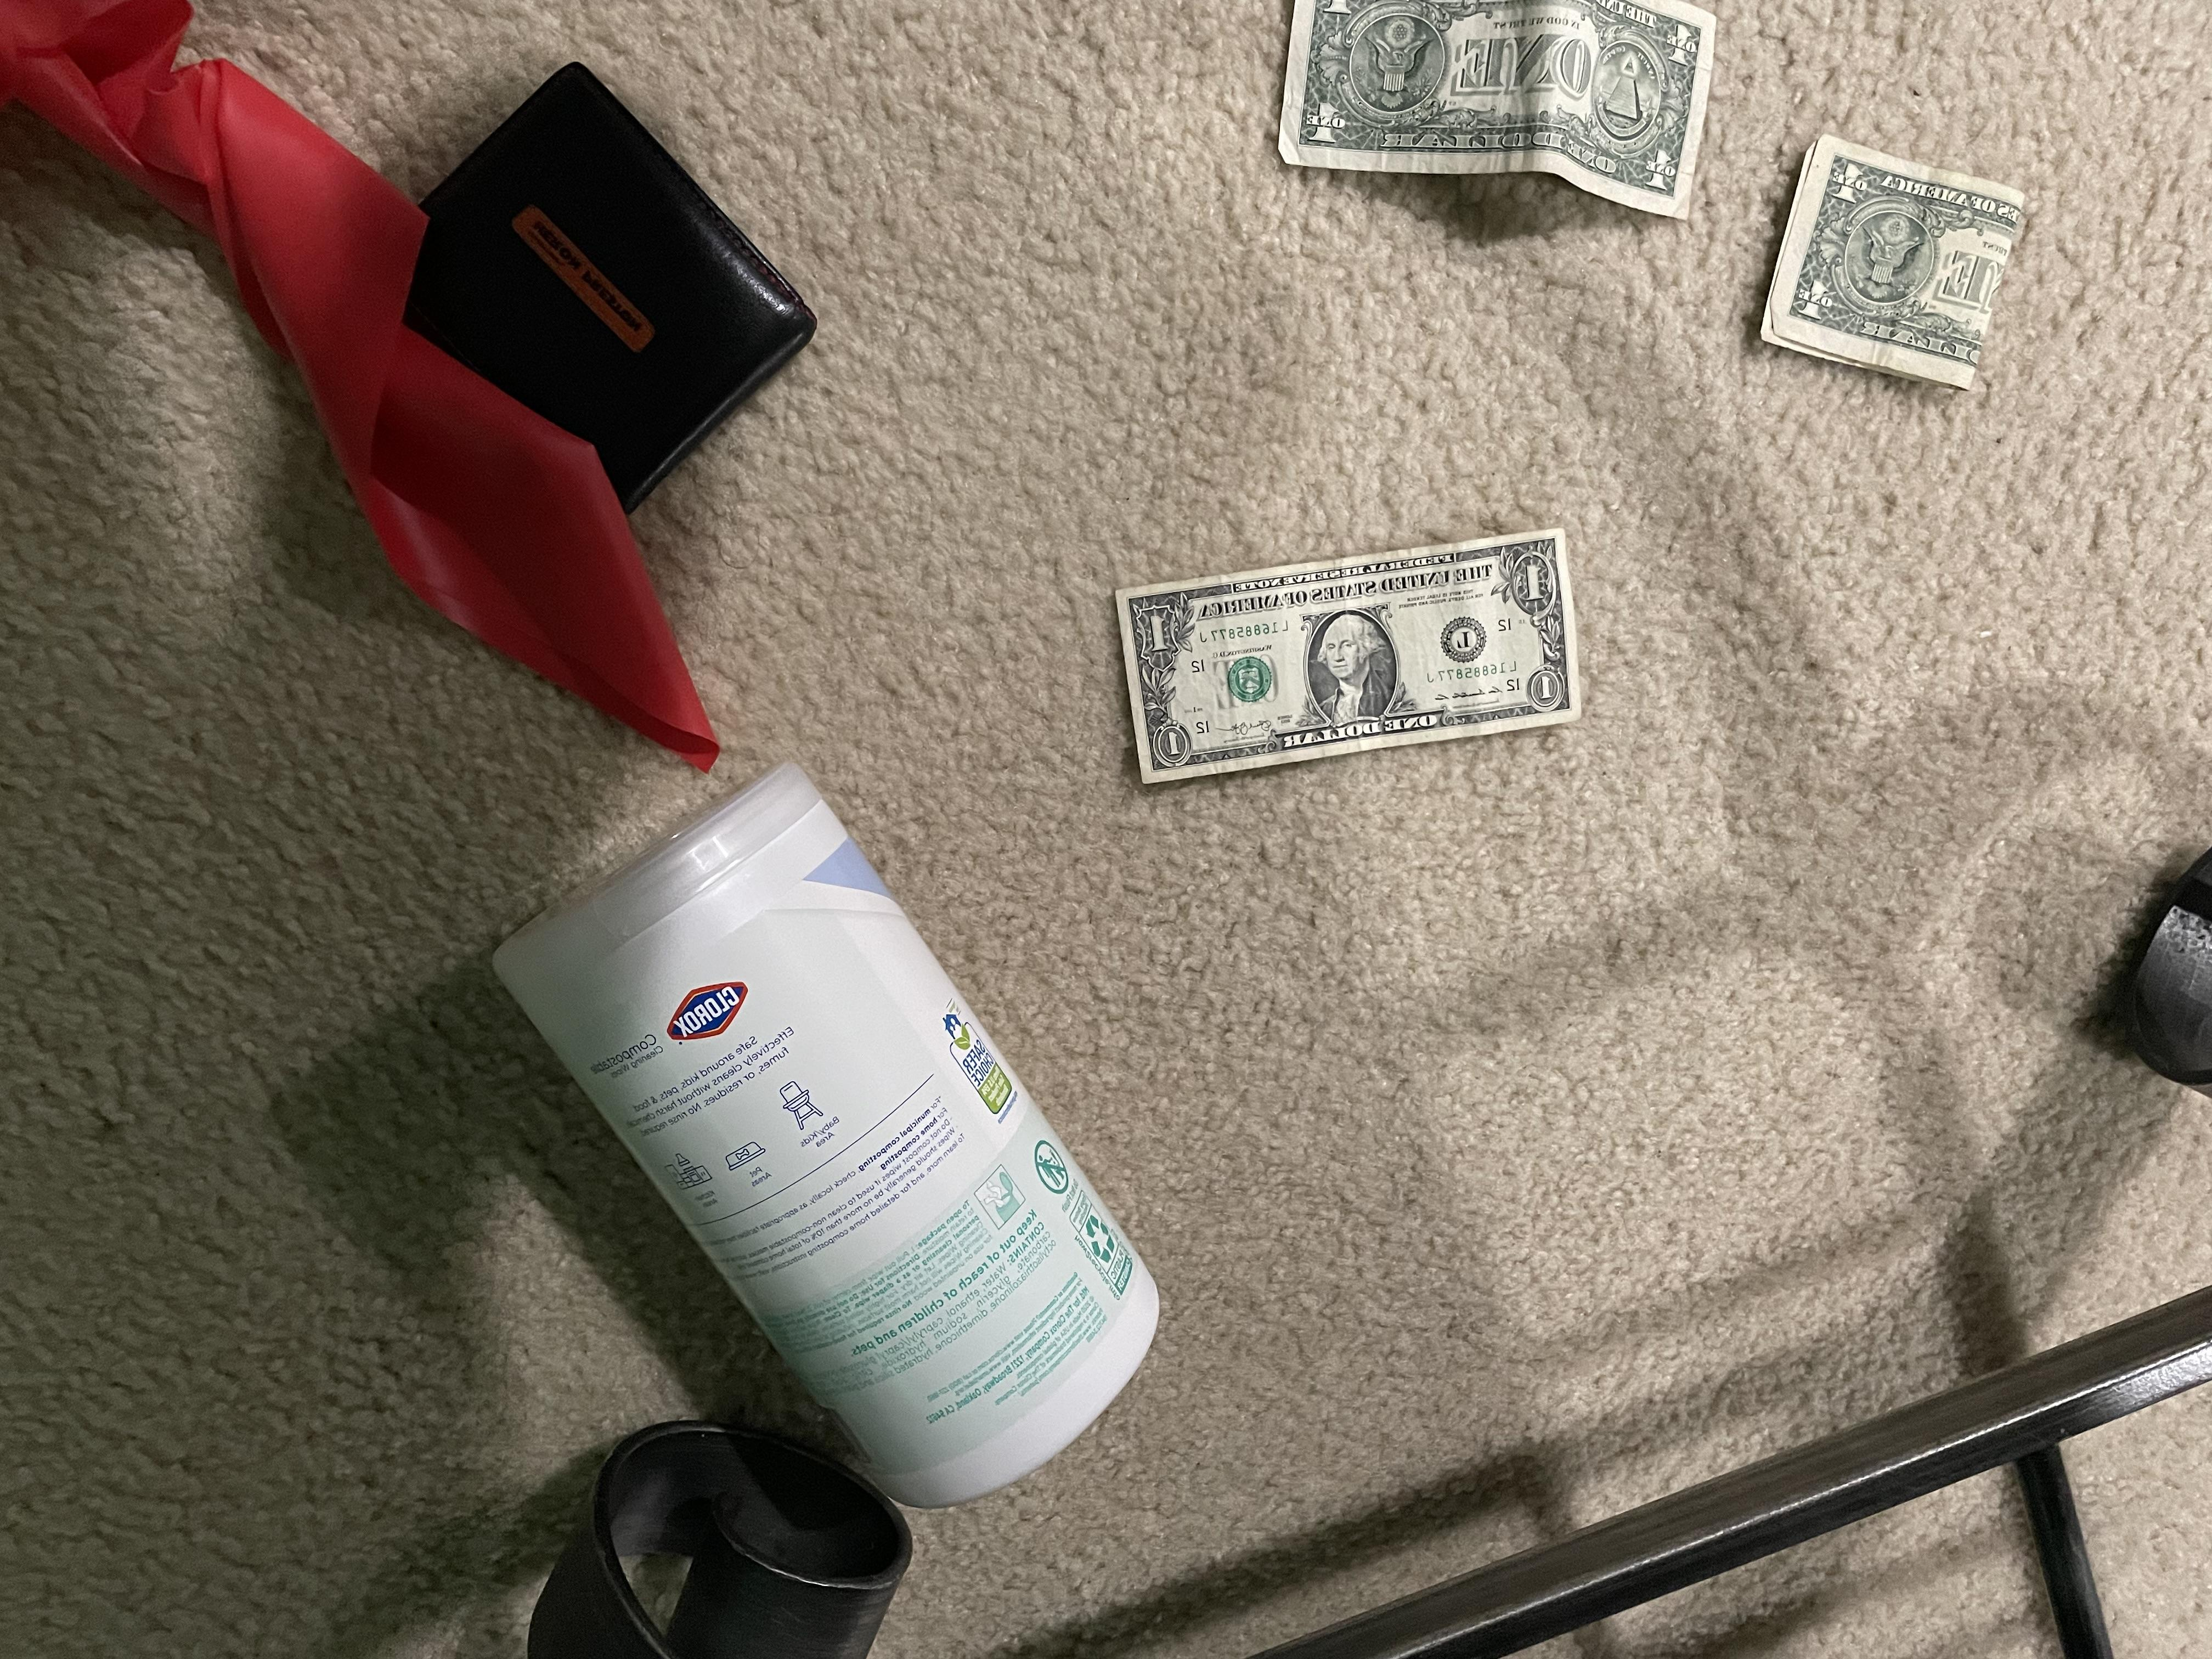OneBill: (1109, 511, 1594, 793), (1244, 0, 1740, 228), (1747, 131, 2045, 403)
